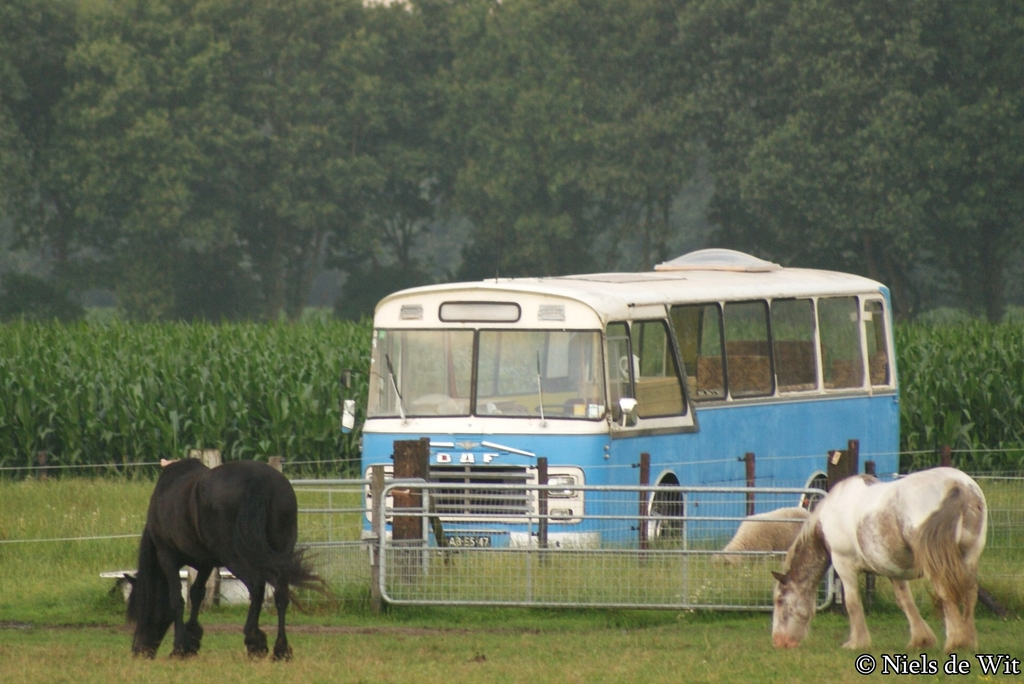horse: (121, 457, 334, 661), (768, 471, 986, 653)
